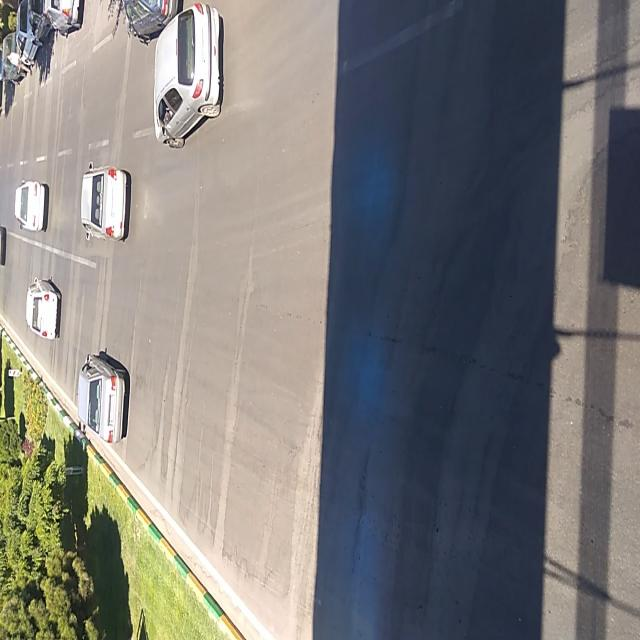car: (153, 6, 219, 148), (80, 353, 125, 443), (82, 165, 127, 239), (122, 1, 182, 46), (25, 274, 60, 340), (15, 179, 46, 232), (46, 1, 82, 33)
